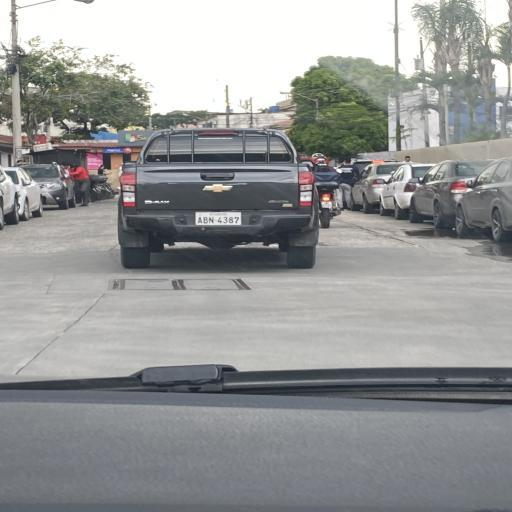license_plate: (228, 216, 234, 225), (208, 217, 215, 224), (197, 216, 203, 224), (234, 216, 240, 224), (217, 216, 222, 225), (203, 216, 208, 224), (223, 216, 228, 224)
